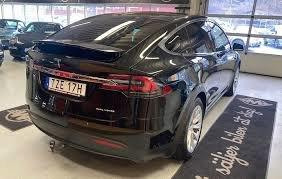license-plates: (48, 78, 87, 96)
